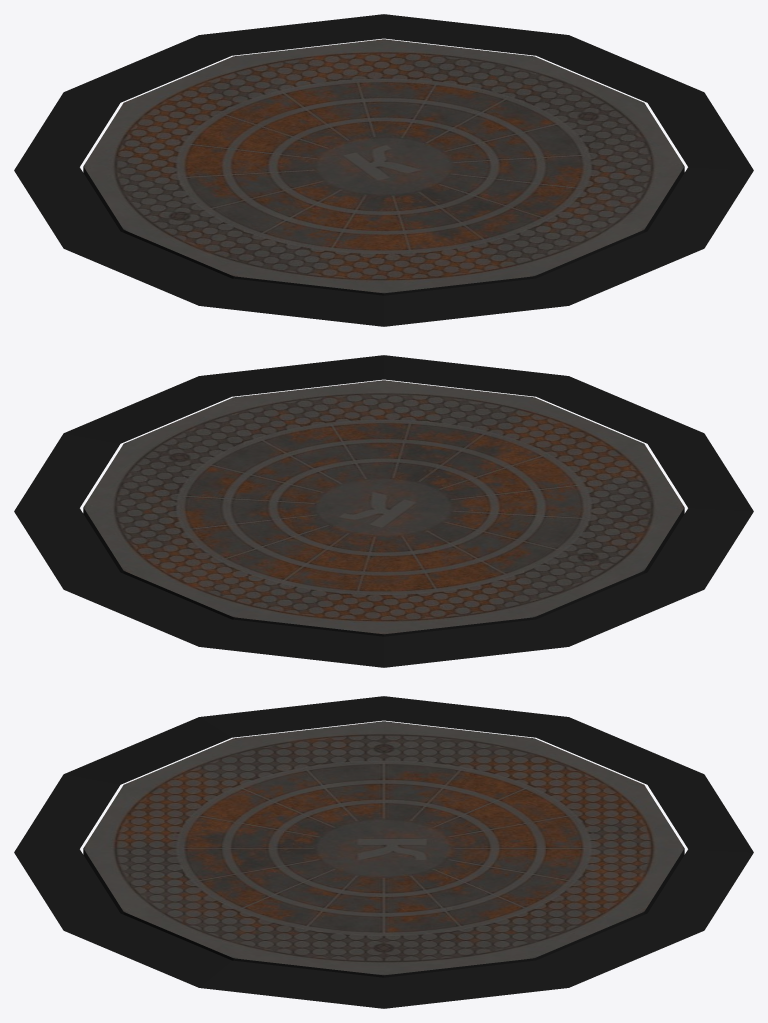
Rendered from manhole_lod2_web.glb.
3 views of the same model, one above another, from view 1: azimuth 30°, elevation 25°; view 2: azimuth 150°, elevation 25°; view 3: azimuth 270°, elevation 25° (orthographic).
Parts seen in each view (by area): view 1: Manhole_Mesh; view 2: Manhole_Mesh; view 3: Manhole_Mesh.
Part boxes in pixels (box(x1,y1,x2,y2)): Manhole_Mesh: box(14, 14, 753, 326); Manhole_Mesh: box(14, 355, 753, 667); Manhole_Mesh: box(14, 696, 753, 1008).
Size of the model in its own units: 0.8 by 0.03 by 0.8.
1 material, 1 textured.
